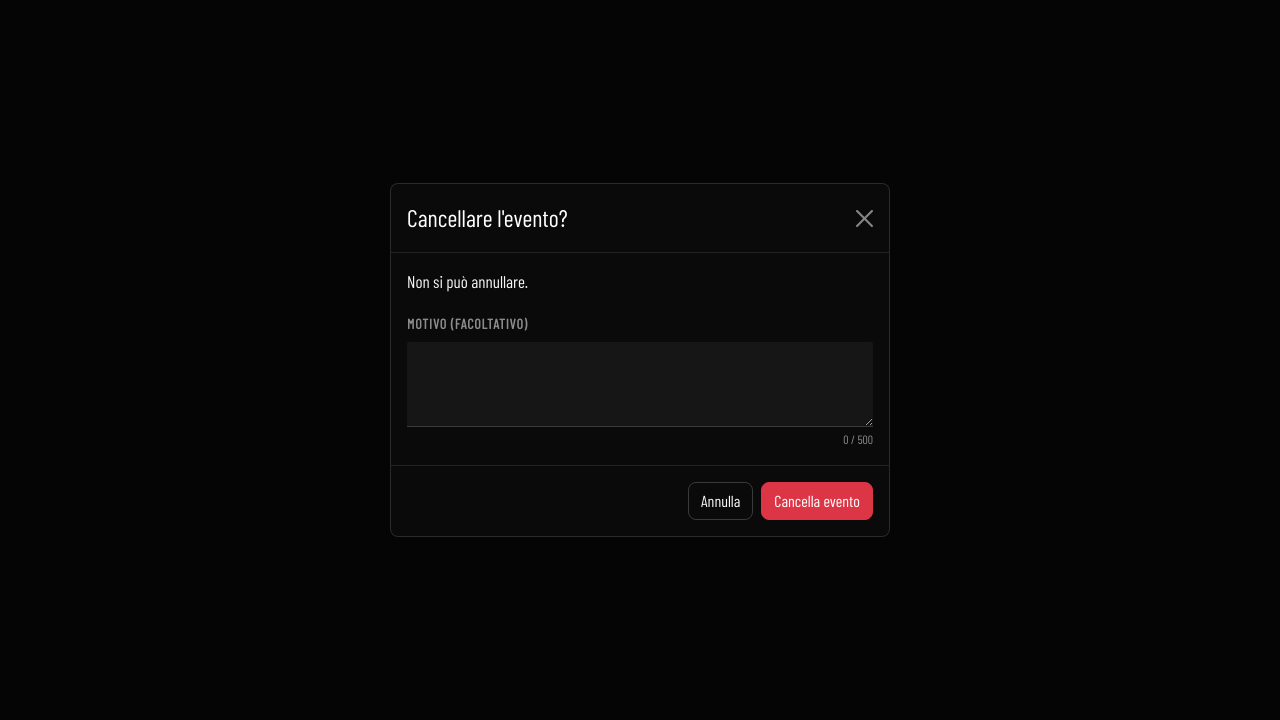
it: ConfirmDialog › conta i caratteri del motivo sul limite di 500
The image size is (1280, 720).
Type "ciao" into the text box labelled "Motivo (facoltativo)" at (640, 385), box [407,342,873,427]
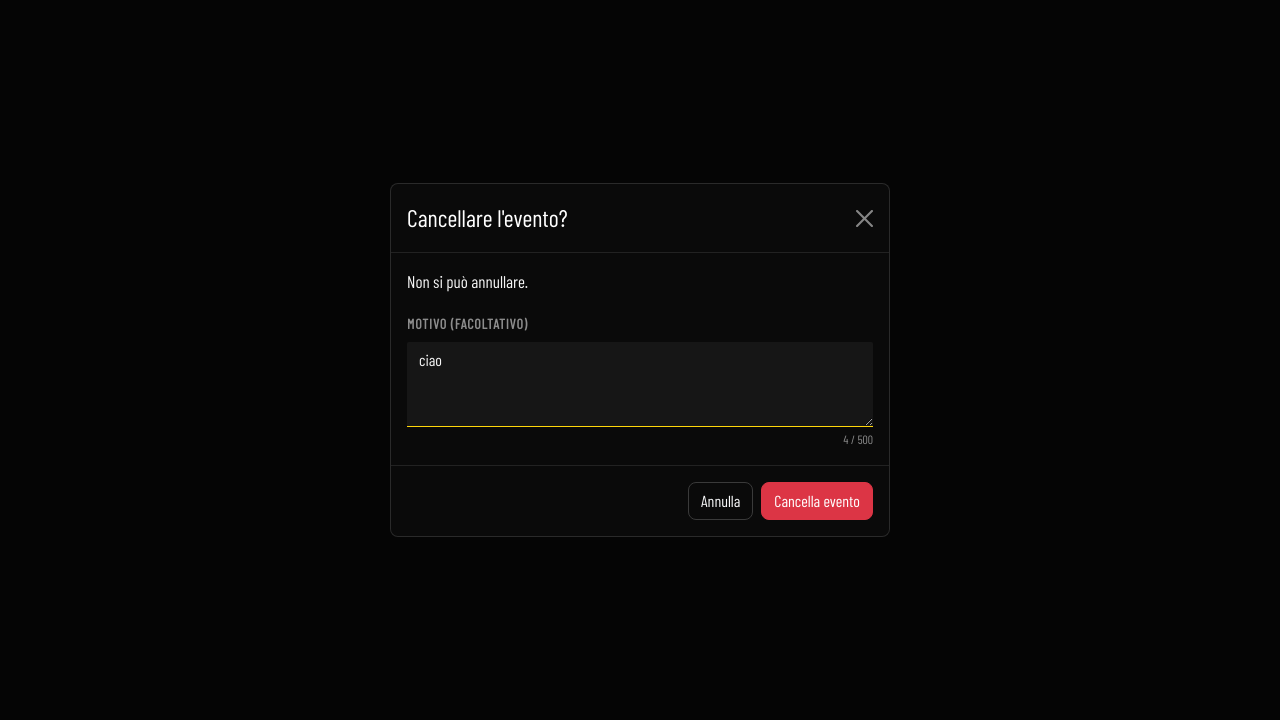
Result: the text "4 / 500" is shown at [843,432,873,446]
